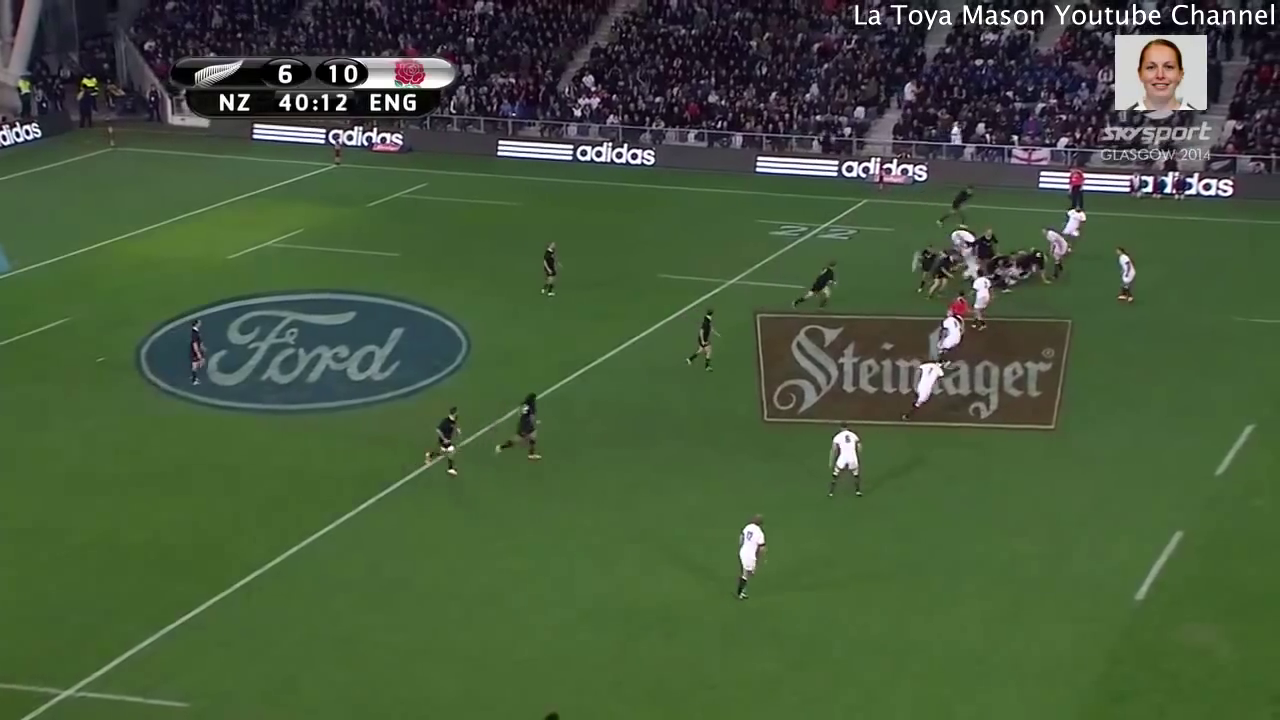player: (814, 414, 876, 504), (720, 510, 777, 605), (487, 385, 550, 464), (418, 401, 469, 484), (676, 300, 723, 381), (892, 355, 943, 423), (784, 259, 845, 312), (925, 307, 972, 370), (176, 314, 214, 389), (529, 232, 568, 303), (1106, 242, 1142, 308), (925, 242, 960, 303), (964, 265, 995, 333), (1056, 202, 1091, 262), (934, 183, 979, 227), (1008, 240, 1051, 280), (1040, 221, 1069, 280), (971, 220, 1004, 267), (913, 239, 938, 295), (941, 288, 973, 322), (949, 224, 978, 253)
